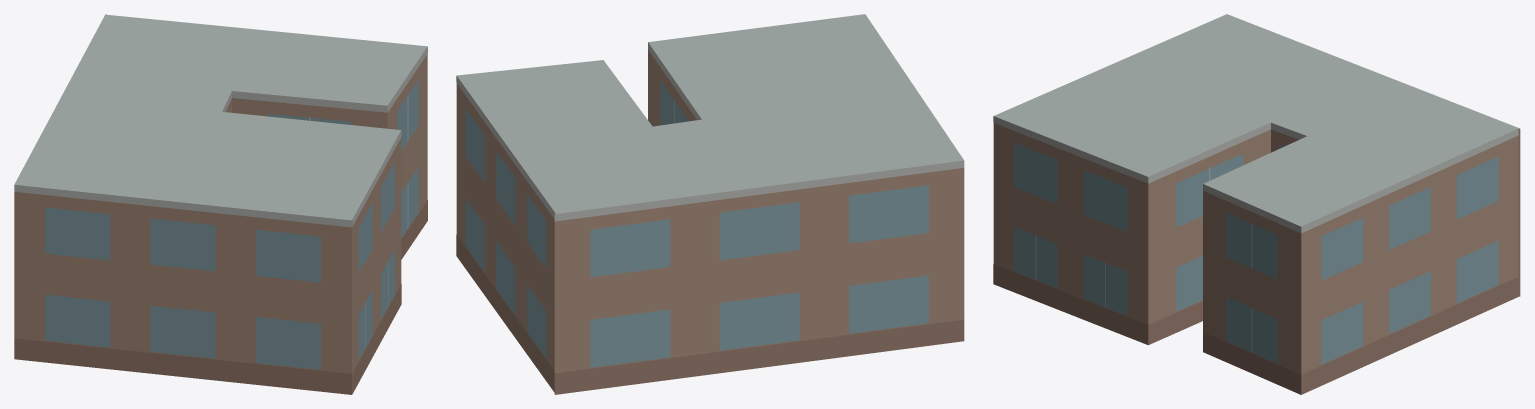
The model's file is survey-upis-32946800.glb.
3 views of the same model, side by side, from view 1: azimuth 30°, elevation 25°; view 2: azimuth 150°, elevation 25°; view 3: azimuth 270°, elevation 25° (orthographic). The views are drawn at different scales.
Visible parts, largest first — view 1: survey-upis-32946800.tmp; view 2: survey-upis-32946800.tmp; view 3: survey-upis-32946800.tmp.
Boxes of the visible parts, x1,y1,x2,y2 form: survey-upis-32946800.tmp: (14,14,427,394); survey-upis-32946800.tmp: (456,14,964,394); survey-upis-32946800.tmp: (993,14,1520,394).
Size of the model in its own units: 16.56 by 6.1 by 17.33.
